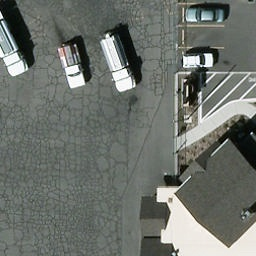car: (185, 6, 225, 23), (179, 54, 218, 69)
pickup: (56, 45, 90, 88)
truck: (94, 34, 134, 91), (0, 6, 31, 77)
